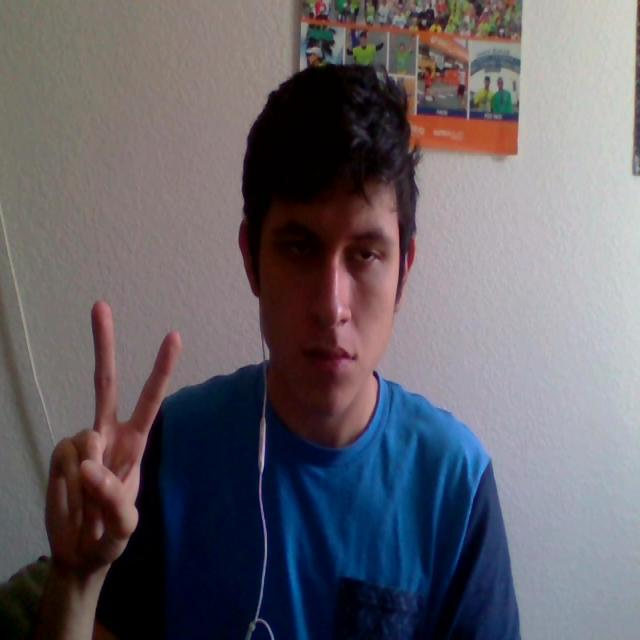V: (21, 276, 190, 596)
